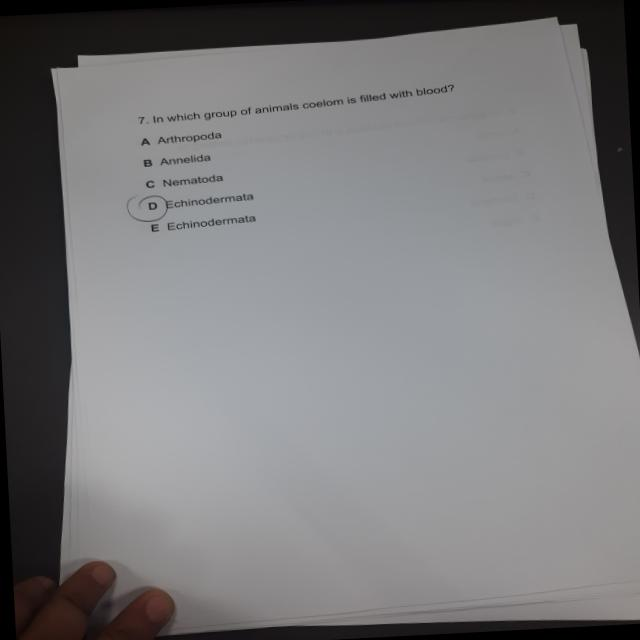D: (126, 193, 173, 225)
